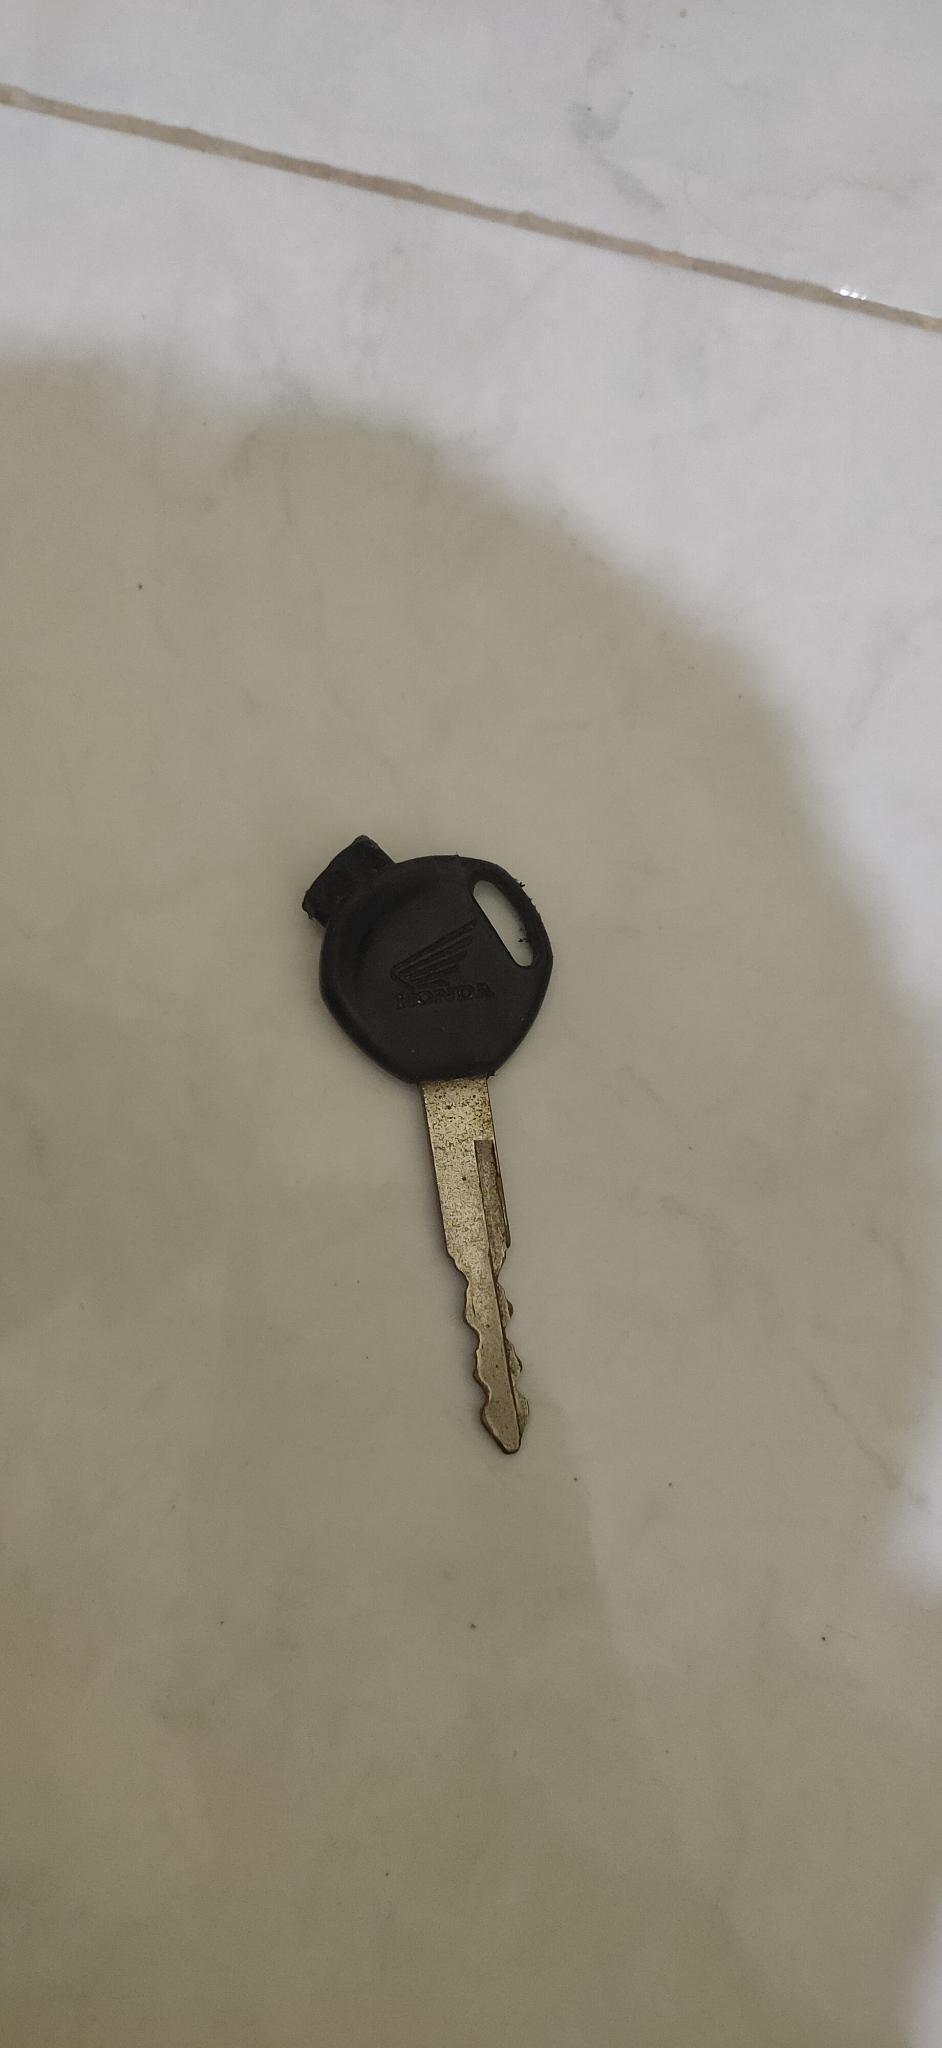keys: (280, 794, 600, 1484)
